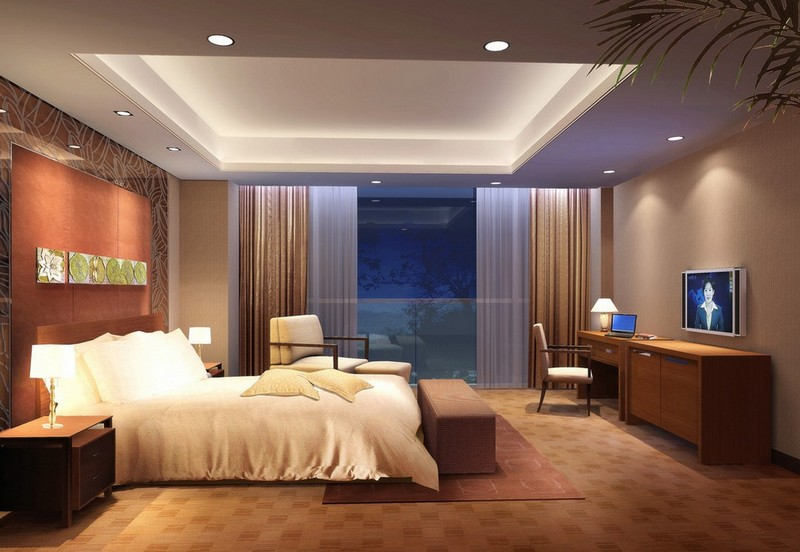bed: (32, 312, 429, 489)
chair: (531, 319, 597, 420), (270, 313, 373, 375)
lamp: (29, 342, 77, 433), (588, 296, 622, 334), (187, 325, 213, 363)
stool: (4, 410, 118, 531), (415, 373, 501, 489), (353, 356, 414, 396)
table: (579, 330, 775, 469)
